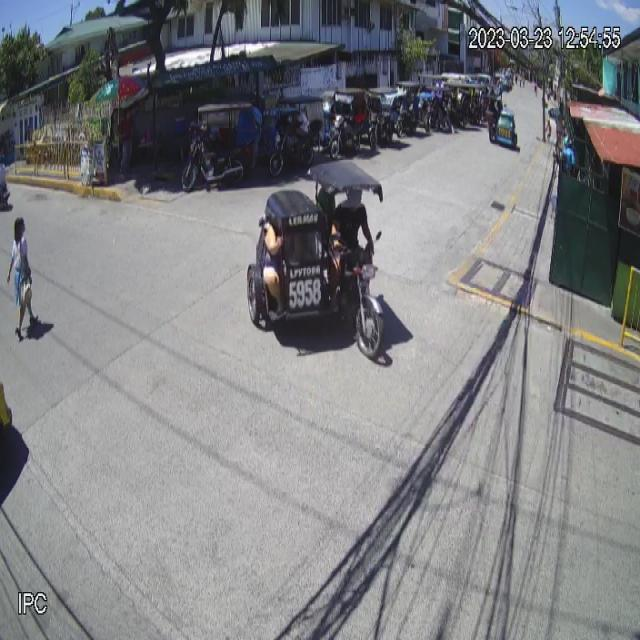Tricycle: (245, 160, 385, 358)
